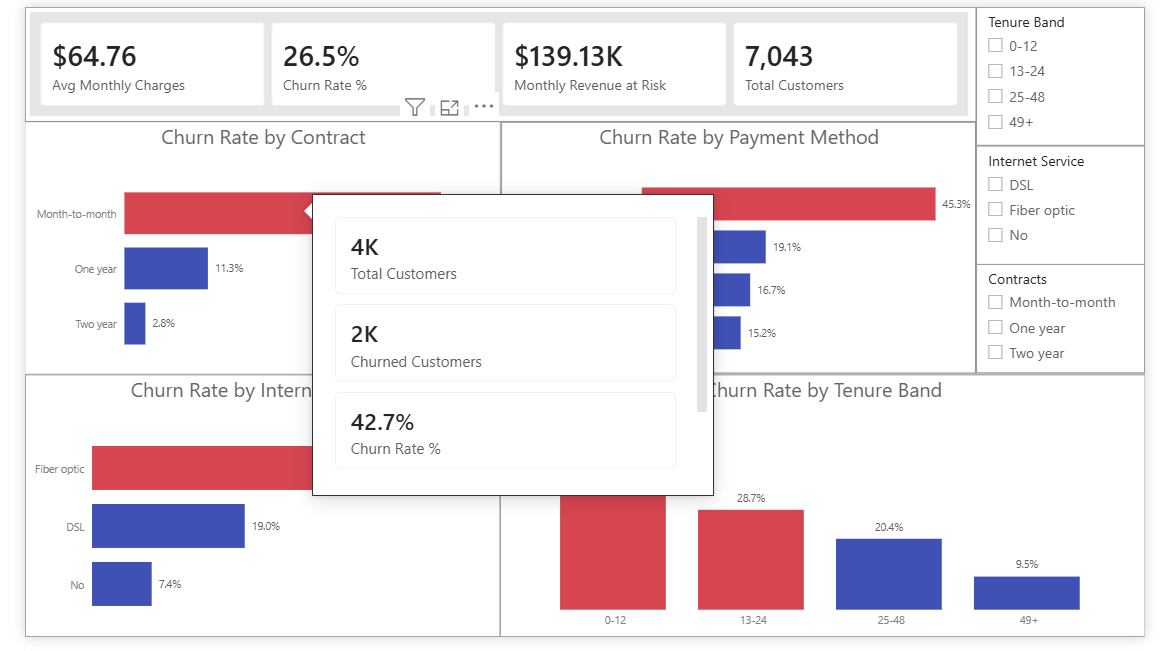

The page's visual inventory and layout, read from the dashboard file:
{"tool":"powerbi","page":{"name":"Churn Dashboard","canvas":[1280,720],"ordinal":0},"visuals":[{"type":"cardVisual","fields":{"Data":["Telco-Customer-Churn.Avg Monthly Charges","Telco-Customer-Churn.Churn Rate %","Telco-Customer-Churn.monthly_revenue_at_risk","Telco-Customer-Churn.Total Customers"]},"box":[0,0,1087.1,131.4],"z":0},{"type":"clusteredBarChart","title":"Churn Rate by Contract","fields":{"Category":["Telco-Customer-Churn.contacts"],"Y":["Telco-Customer-Churn.Churn Rate %"]},"box":[0,131.7,543.3,288.3],"z":1000},{"type":"clusteredBarChart","title":"Churn Rate by Internet Service","fields":{"Category":["Telco-Customer-Churn.internet_service"],"Y":["Telco-Customer-Churn.Churn Rate %"]},"box":[0,420,543.3,300],"z":2000},{"type":"clusteredColumnChart","title":"Churn Rate by Tenure Band","fields":{"Category":["Telco-Customer-Churn.tenure_band"],"Y":["Telco-Customer-Churn.Churn Rate %"]},"box":[542.7,420,737.3,300],"z":3000},{"type":"clusteredBarChart","title":"Churn Rate  by Payment Method","fields":{"Y":["Telco-Customer-Churn.Churn Rate %"],"Category":["Telco-Customer-Churn.payment_method"]},"box":[543.6,131.8,542.7,287.3],"z":4000},{"type":"slicer","fields":{"Values":["Telco-Customer-Churn.contracts"]},"box":[1086.7,293.3,192.9,125.7],"z":5000},{"type":"slicer","fields":{"Values":["Telco-Customer-Churn.internet_service"]},"box":[1087.1,159,192.9,135.7],"z":6000},{"type":"slicer","fields":{"Values":["Telco-Customer-Churn.tenure_band"]},"box":[1087.1,0.5,192.9,158.6],"z":7000},{"type":"textbox","box":[335,0,13.3,65],"z":8000}]}

Visuals, with their boxes in screenshot pixels (x1, y1, x2, y2), scaled from the page's 1280x720 canvas onto the 1160x651 screenshot:
cardVisual - Telco-Customer-Churn.Avg Monthly Charges x Telco-Customer-Churn.Churn Rate %: bbox(0, 0, 985, 119)
"Churn Rate by Contract" clusteredBarChart: bbox(0, 119, 492, 380)
"Churn Rate by Internet Service" clusteredBarChart: bbox(0, 380, 492, 650)
"Churn Rate by Tenure Band" clusteredColumnChart: bbox(492, 380, 1159, 650)
"Churn Rate  by Payment Method" clusteredBarChart: bbox(493, 119, 984, 379)
slicer - Telco-Customer-Churn.contracts: bbox(985, 265, 1159, 379)
slicer - Telco-Customer-Churn.internet_service: bbox(985, 144, 1159, 266)
slicer - Telco-Customer-Churn.tenure_band: bbox(985, 0, 1159, 144)
textbox: bbox(304, 0, 316, 59)
